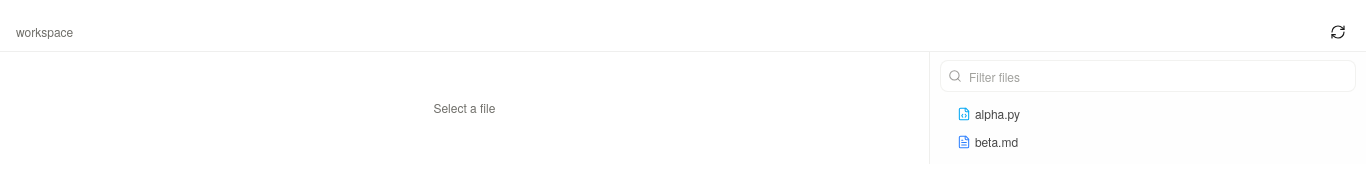
Test: WorkspacePanel › filters the visible tree without adding extra panels
Expected: the text "alpha.py" is shown, [975, 105, 1020, 122]
In the field labelled "Filter files": (1148, 76) [940, 60, 1356, 92], type "beta"
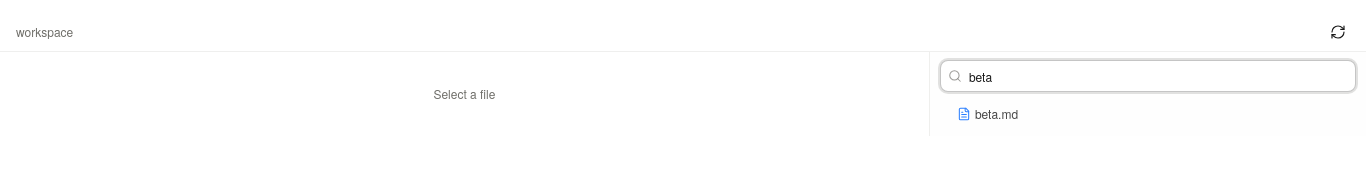
Expected: the text "beta.md" is shown, [975, 105, 1018, 122]
Now the button "alpha.py" is gone
